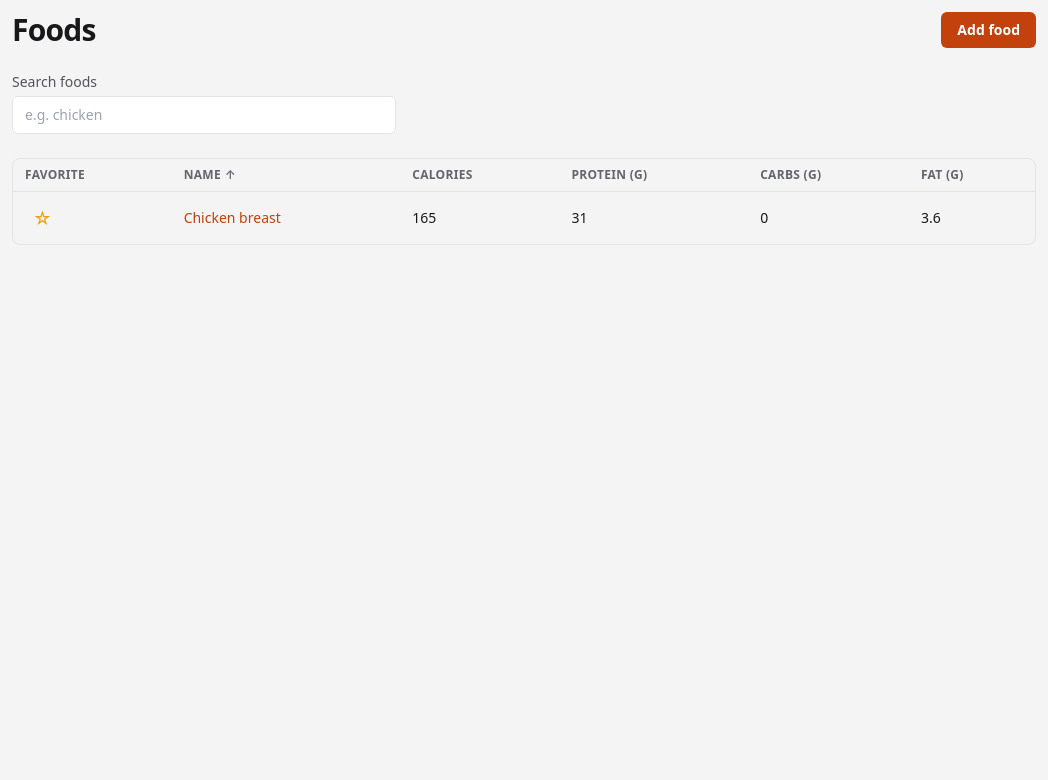
Test case: FoodsPage › rolls back the favorite toggle and shows an error toast on failure
Expected: the button "Chicken breast" is shown, [184,208,281,228]
Click the button named "add chicken breast to favorites" at {"x": 42, "y": 218}, box [25,200,60,236]
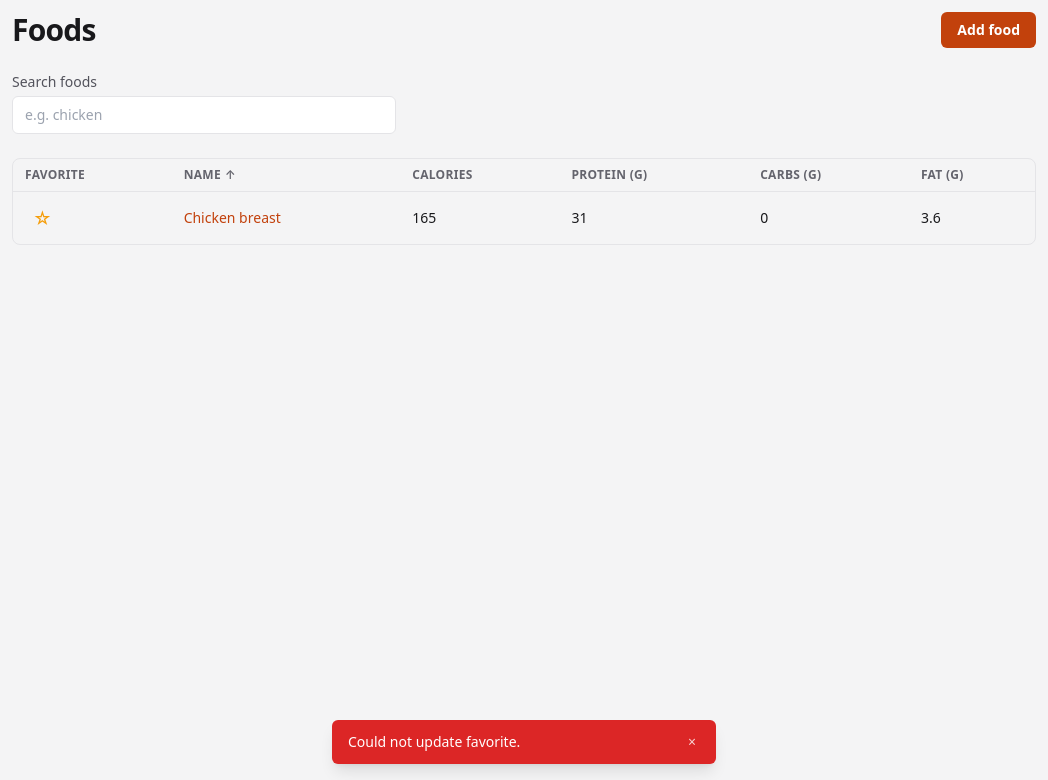
Expected: the text "Could not update favorite." is shown, [348,732,520,752]
